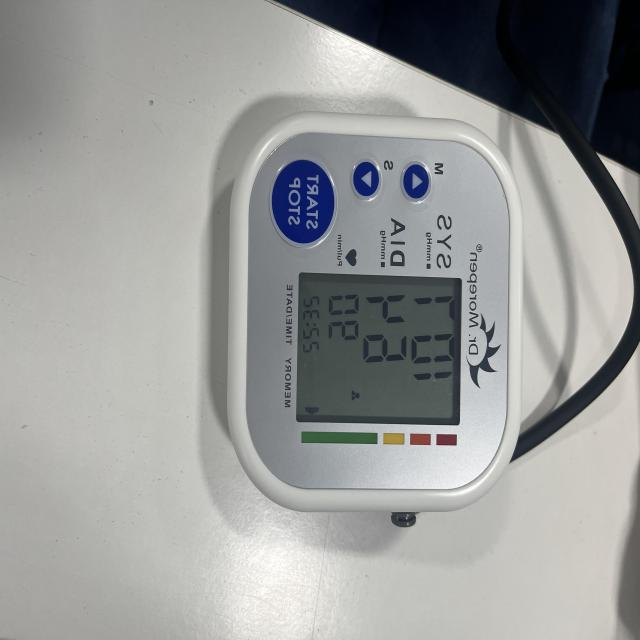bp: (208, 97, 528, 530)
